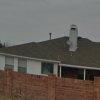Chimney: (60, 18, 86, 60)
